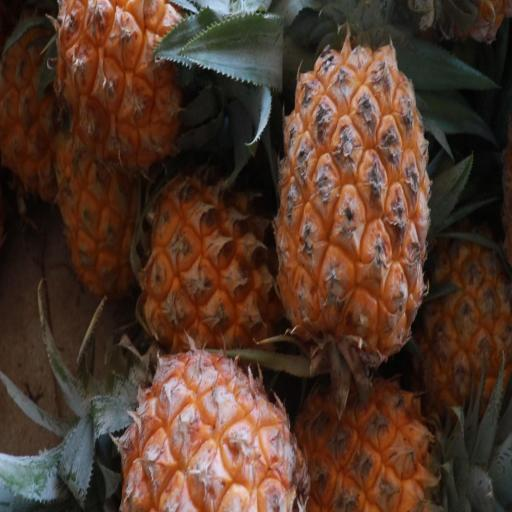Pineapple - v8 v1: (270, 42, 433, 406), (49, 0, 249, 187), (101, 340, 318, 512), (132, 153, 288, 371), (290, 351, 461, 512), (407, 199, 512, 423)
